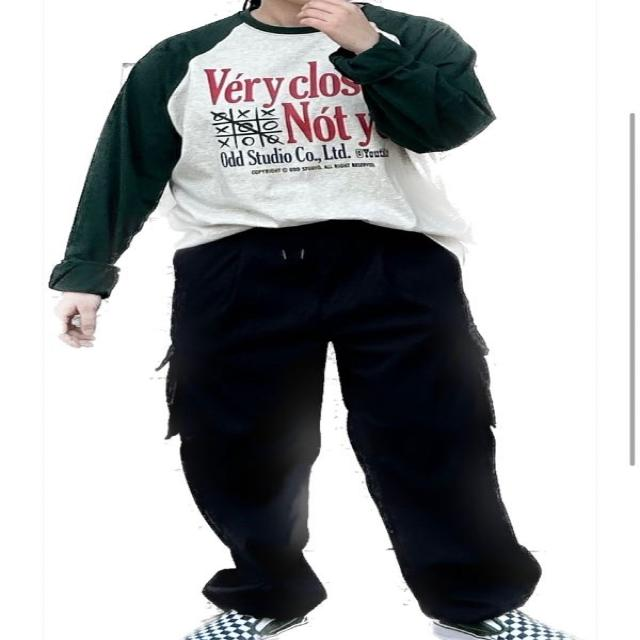cottonpants: (164, 221, 535, 630)
longsleeve: (54, 2, 508, 309)
